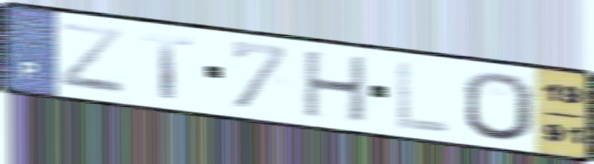7: (228, 37, 290, 113)
H: (299, 49, 372, 127)
L: (393, 58, 453, 136)
O: (460, 69, 537, 144)
T: (139, 31, 197, 102)
Z: (57, 19, 129, 97)
